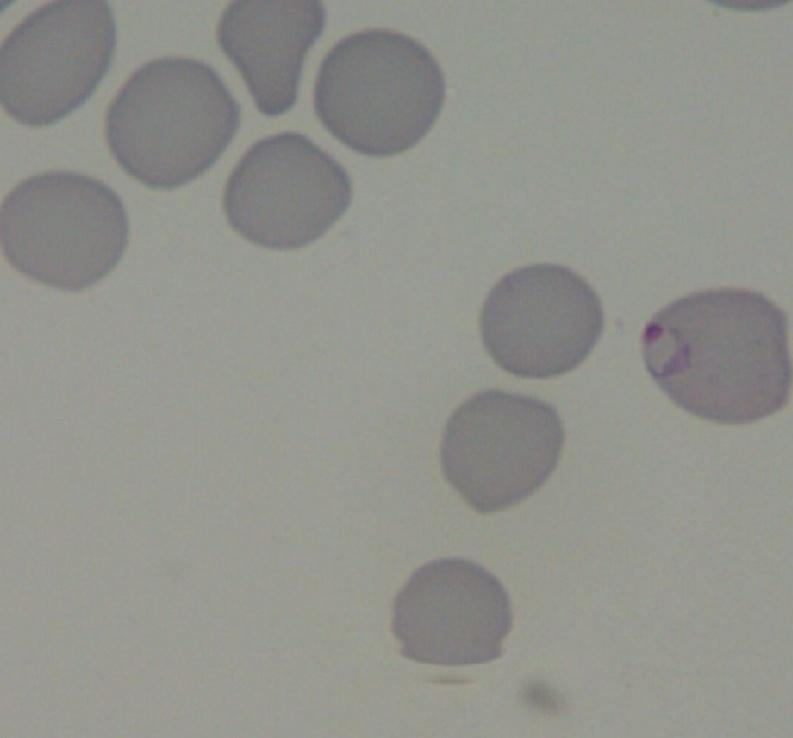Infected: (637, 286, 793, 424)
Uninfected: (110, 56, 242, 187), (223, 129, 350, 253), (317, 31, 441, 156), (443, 387, 564, 514), (0, 172, 123, 292), (0, 0, 114, 128), (480, 262, 604, 379), (392, 554, 513, 669), (217, 4, 330, 114)
